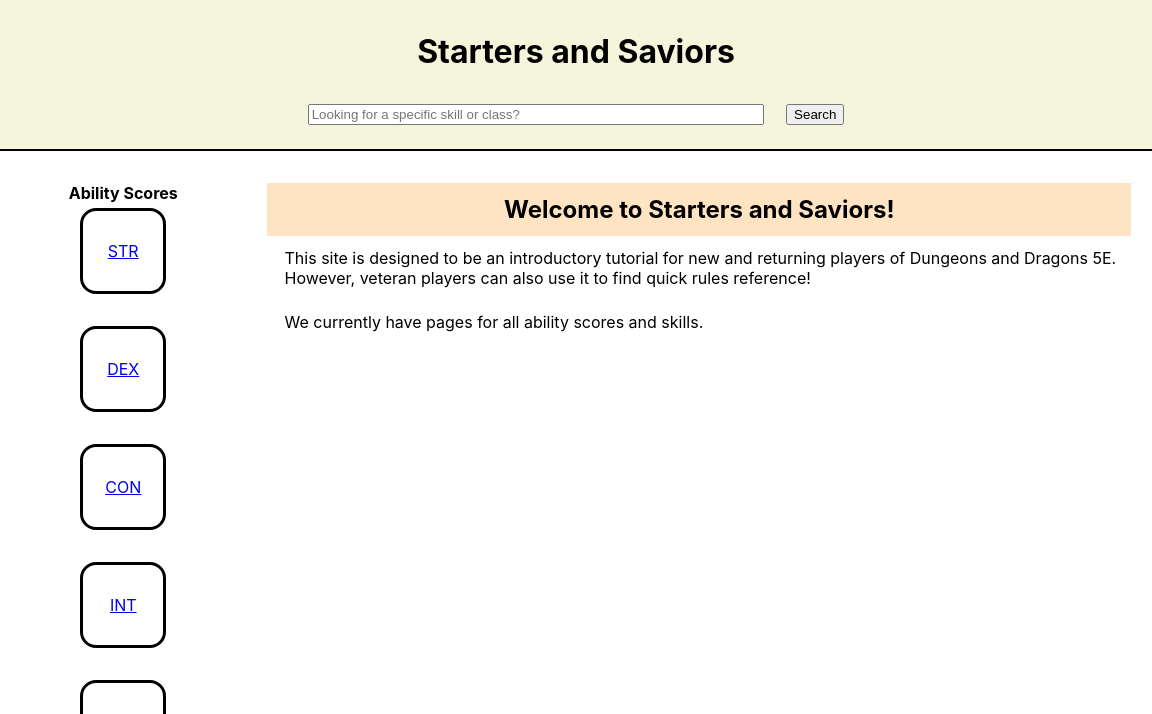
Test: Homepage functionality › Should navigate to a new page when the search bar is used to find a stat
The image size is (1152, 714).
Type "charisma" into the field named "search-bar" at (536,115), box [308, 104, 764, 125]
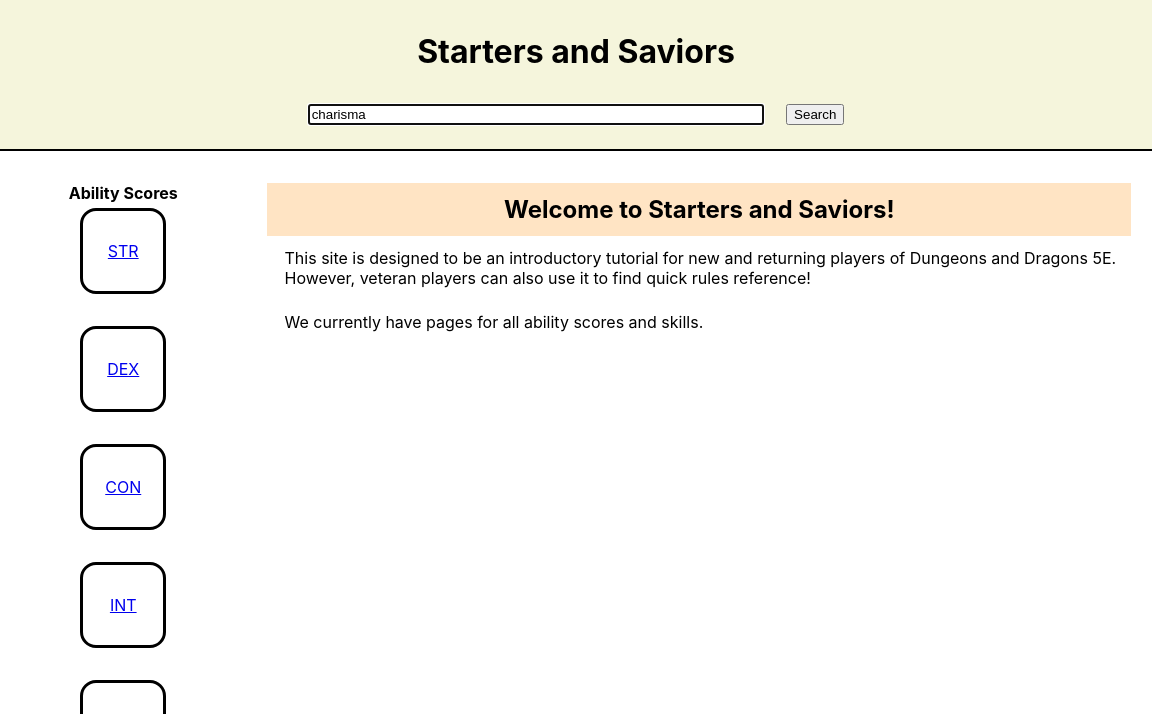
Click the button "Search" at (815,115), box [786, 104, 844, 125]
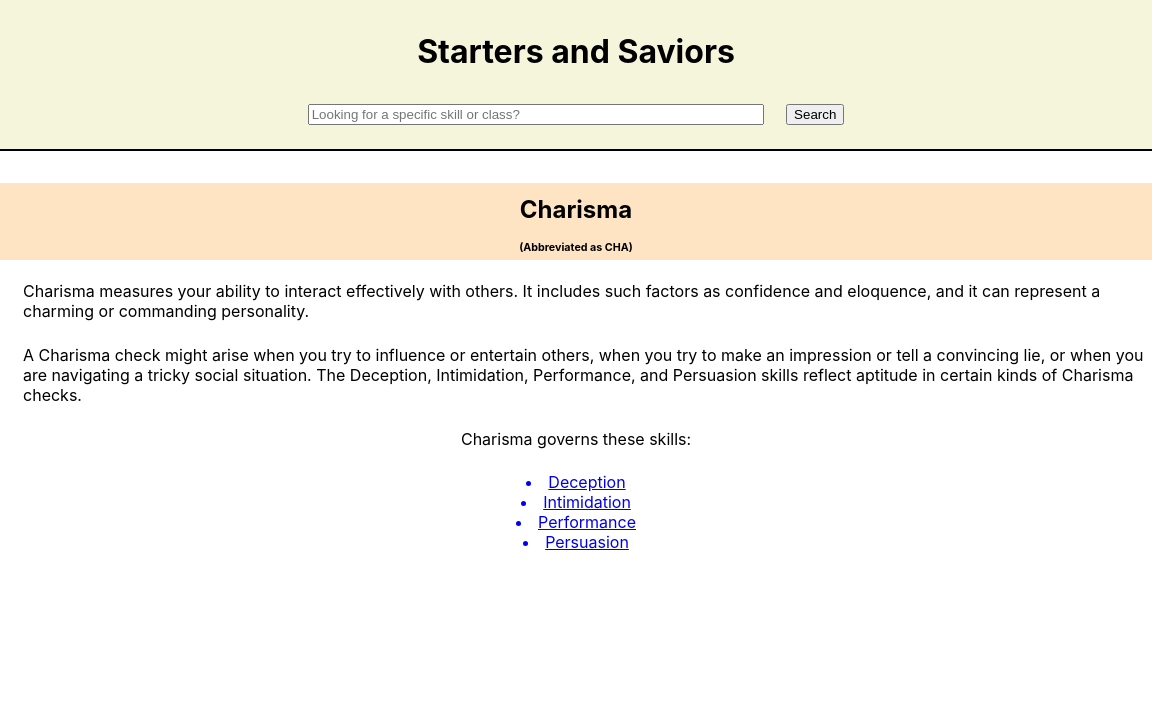
Now the heading "Charisma" is shown, box [0, 183, 1151, 236]
